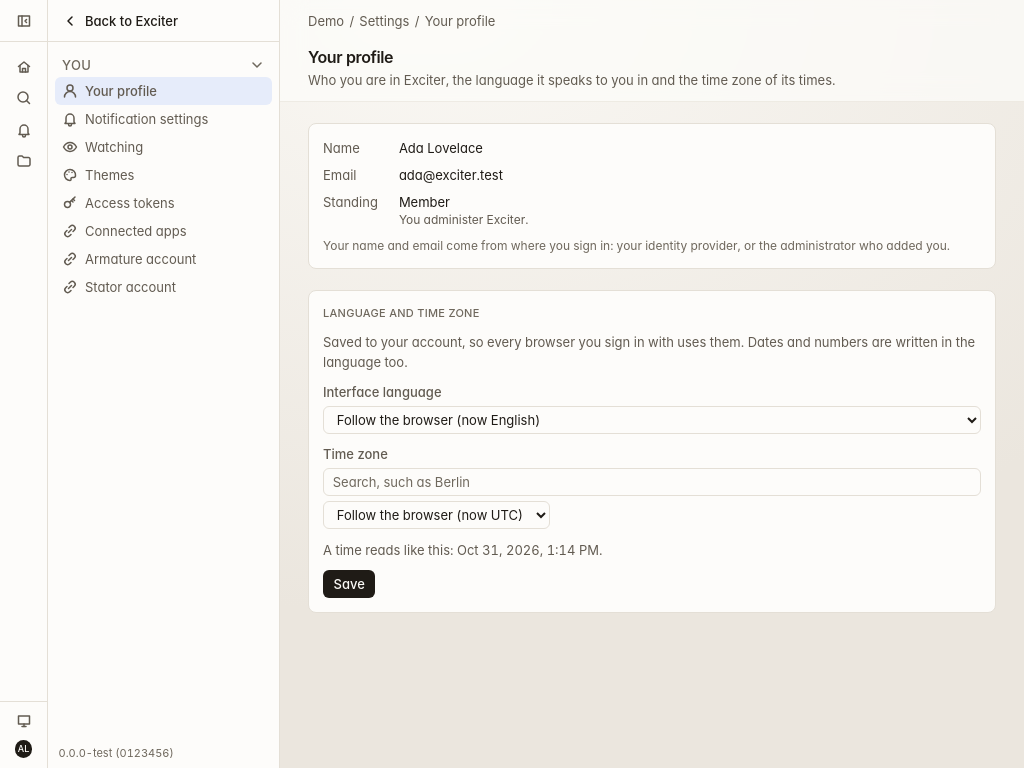
Scenario: the interface language › is chosen on Your profile, saved with its Save, and shown at once
The image size is (1024, 768).
Select "Deutsch" in the dropdown labelled "Interface language" at {"x": 652, "y": 420}, box left=323, top=406, right=981, bottom=434
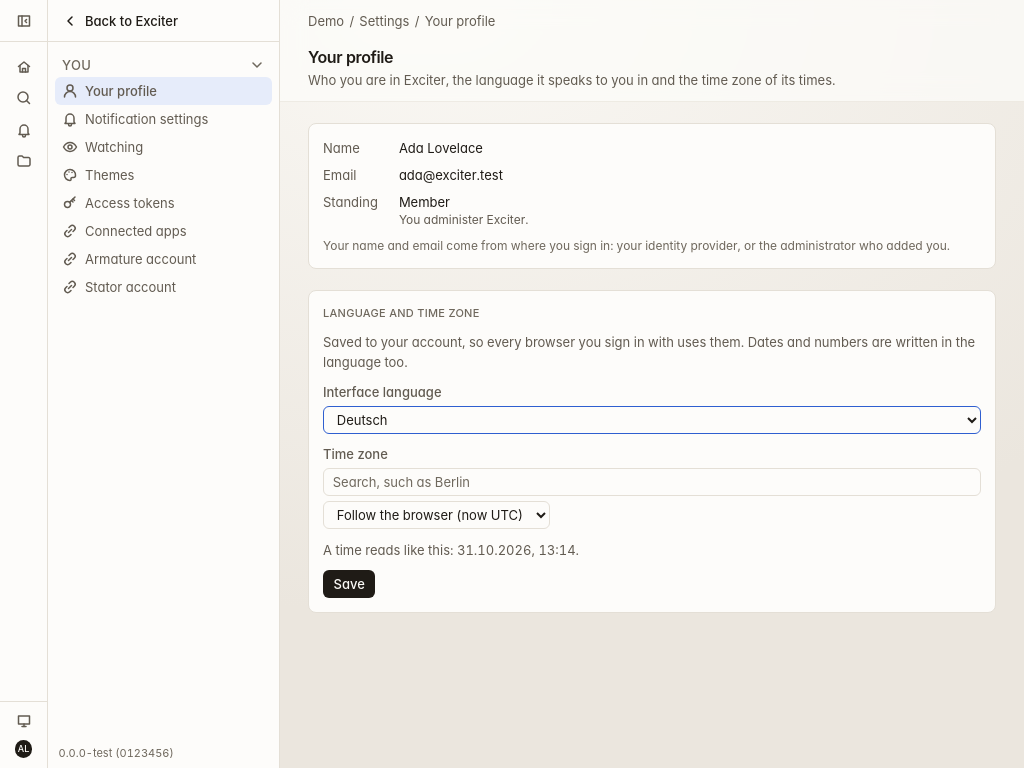
Click the button "Save" at {"x": 349, "y": 584}, box left=323, top=570, right=375, bottom=598
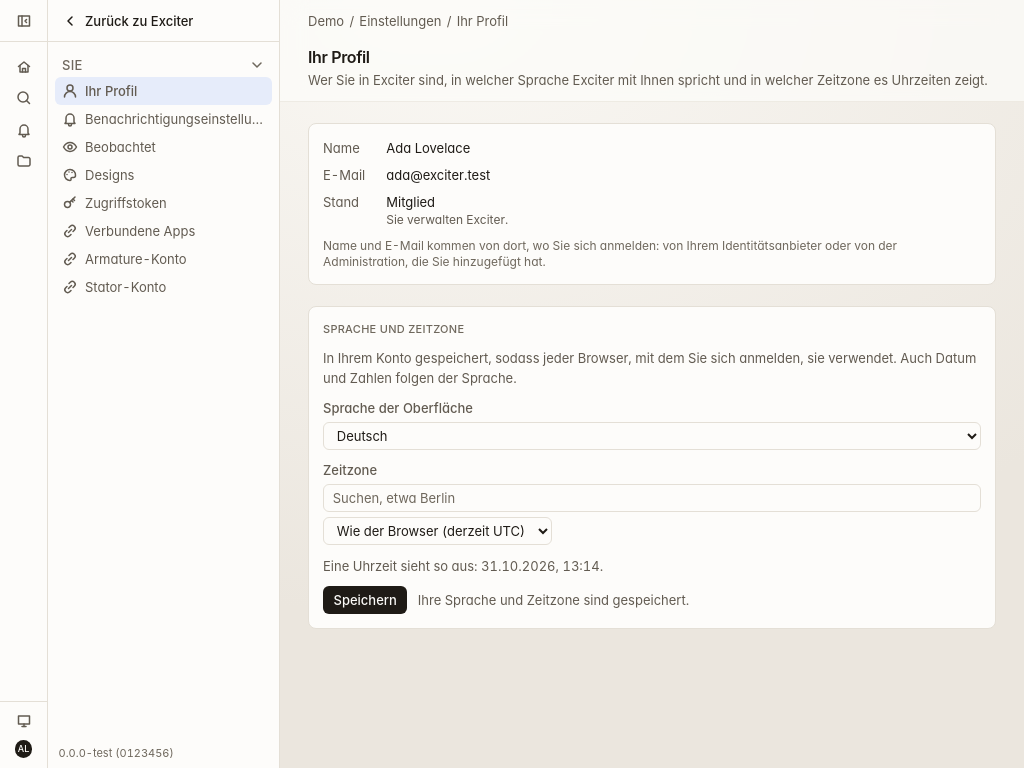
Result: the dropdown labelled "Sprache der Oberfläche" shows "Deutsch" at left=323, top=422, right=981, bottom=450
Result: the heading "Ihr Profil" is shown at left=308, top=46, right=370, bottom=66
Result: the message "Ihre Sprache und Zeitzone sind gespeichert." is shown at left=418, top=590, right=689, bottom=610
